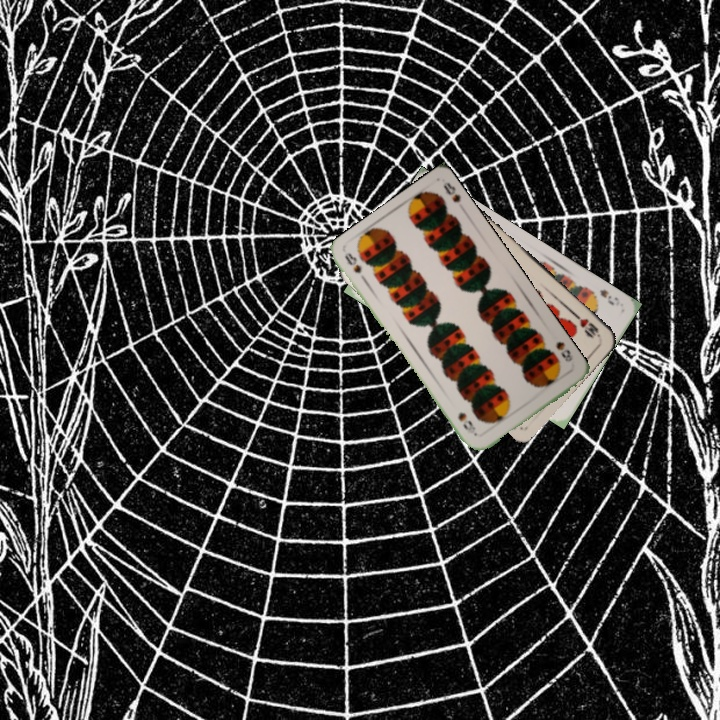H10: (570, 309, 603, 341)
S8: (341, 249, 370, 285), (552, 337, 575, 364)
S9: (585, 285, 617, 308)
